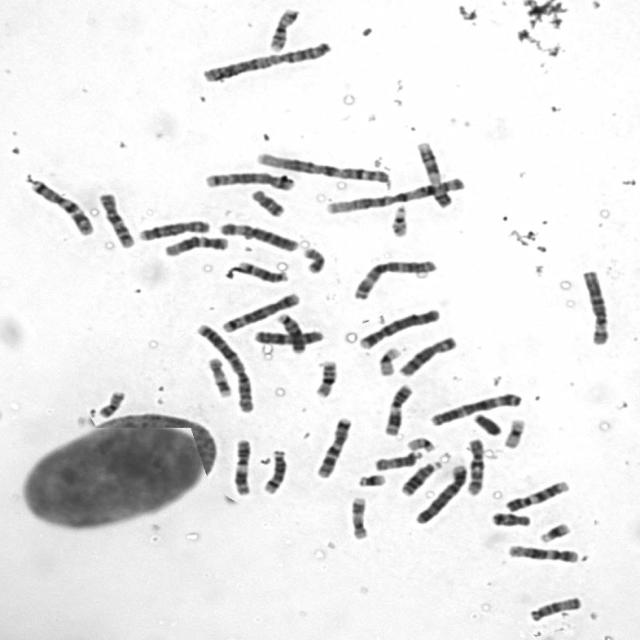A1: (322, 174, 466, 216), (254, 147, 394, 187)
A2: (195, 36, 334, 84), (192, 320, 256, 414)
A3: (349, 256, 439, 300), (427, 389, 524, 427)
B4: (355, 304, 443, 350), (412, 461, 470, 525)
B5: (218, 289, 302, 333), (201, 167, 297, 192)
C10: (94, 188, 137, 250), (463, 434, 487, 497)
C11: (380, 381, 414, 437), (229, 434, 254, 496)
C12: (160, 231, 230, 258), (504, 541, 581, 564)
C6: (216, 218, 301, 253), (577, 266, 613, 346)
C7: (26, 176, 96, 237), (313, 414, 353, 480)
C8: (396, 332, 459, 378), (135, 216, 213, 242)
C9: (412, 137, 453, 209), (503, 477, 572, 513)
D13: (398, 457, 443, 497), (273, 310, 307, 354)
D14: (231, 258, 290, 284), (259, 446, 290, 495)
D15: (525, 592, 584, 623), (372, 447, 424, 471)
E16: (265, 4, 301, 52), (311, 356, 340, 398)
E17: (204, 354, 234, 398), (347, 492, 370, 542)
E18: (246, 185, 286, 218), (488, 508, 533, 528)
F19: (500, 414, 528, 450), (375, 343, 403, 377)
F20: (94, 386, 127, 419), (299, 243, 327, 275)
G21: (536, 519, 573, 543), (354, 470, 388, 488)
G22: (387, 201, 411, 238), (404, 433, 437, 453)
X: (250, 326, 326, 346)
Y: (470, 409, 504, 436)
